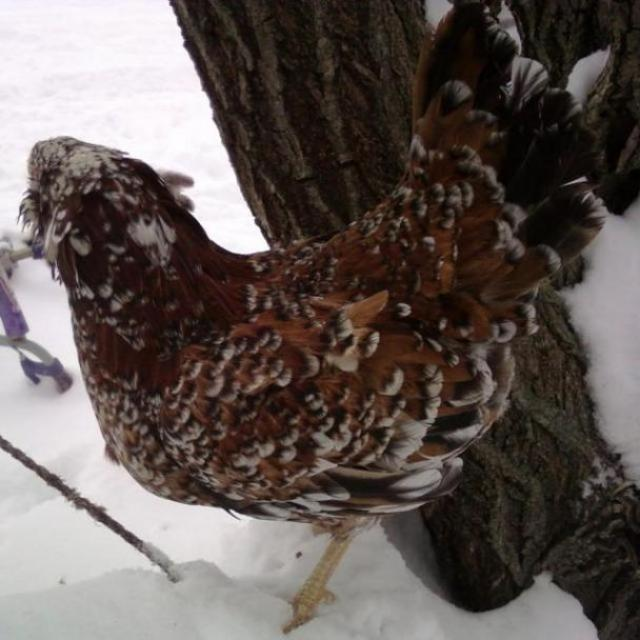Chicken: (6, 0, 631, 637)
